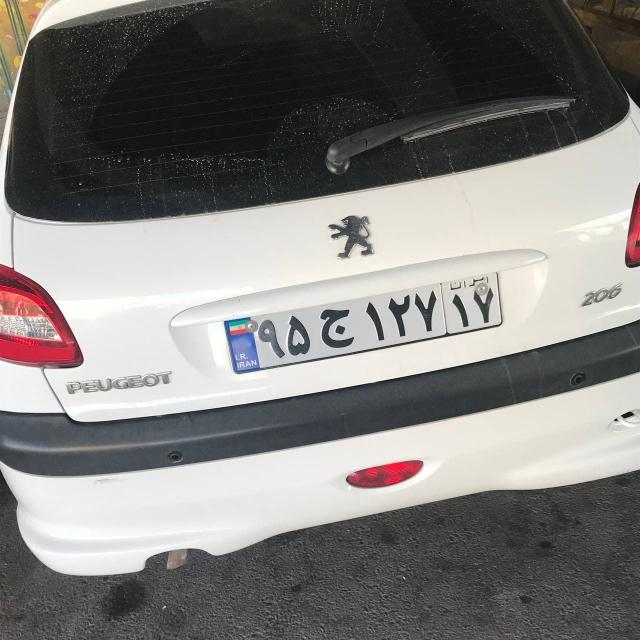Plates: (223, 270, 507, 374)
